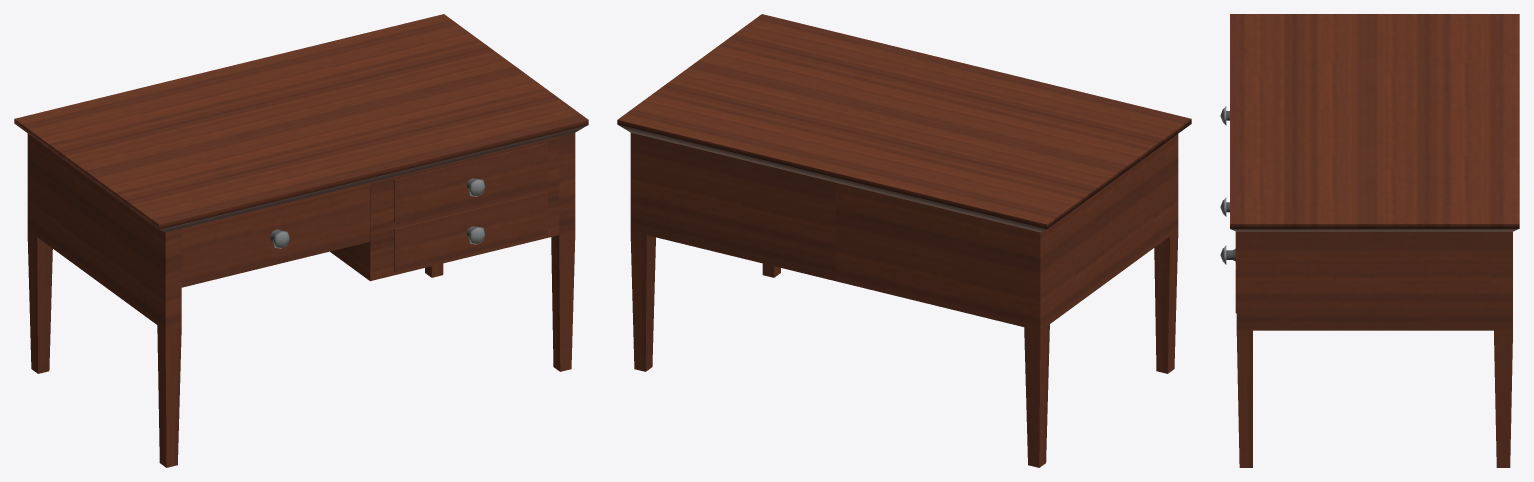
Rendered from MD_desk_tga.fbx.
The picture shows the model from 3 angles, left to right: view 1: azimuth 30°, elevation 25°; view 2: azimuth 150°, elevation 25°; view 3: azimuth 270°, elevation 25°; orthographic projection.
Visible parts, largest first — view 1: SmartExtract_1, SmartCombine_2, SmartCombine_1, SmartCombine_0; view 2: SmartExtract_1; view 3: SmartExtract_1.
Boxes of the visible parts, bbox=[...] form: SmartExtract_1: bbox=[14, 14, 588, 467]; SmartCombine_2: bbox=[181, 187, 369, 287]; SmartCombine_1: bbox=[394, 191, 547, 271]; SmartCombine_0: bbox=[394, 142, 547, 222]; SmartExtract_1: bbox=[617, 14, 1191, 467]; SmartExtract_1: bbox=[1230, 14, 1519, 467].
Size of the model in its own units: 1.26 by 0.6988 by 0.7581.
Materials: 1 (1 with a texture image).
